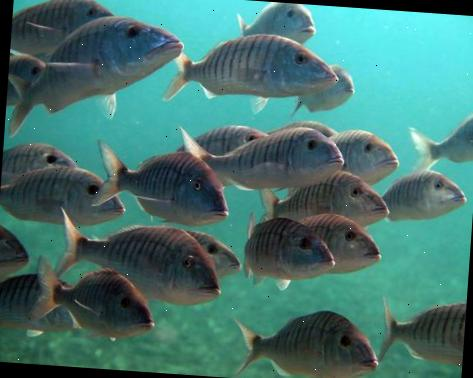fish: (7, 11, 184, 148), (46, 205, 227, 308), (162, 30, 342, 113), (173, 120, 348, 196), (90, 142, 232, 228), (25, 255, 158, 342), (229, 304, 381, 378), (256, 167, 391, 236), (0, 162, 126, 230), (241, 212, 334, 294), (378, 298, 466, 366), (381, 169, 468, 228), (406, 105, 473, 180), (324, 128, 402, 189), (0, 141, 77, 197), (289, 62, 356, 121), (235, 0, 316, 44), (0, 220, 30, 282)
